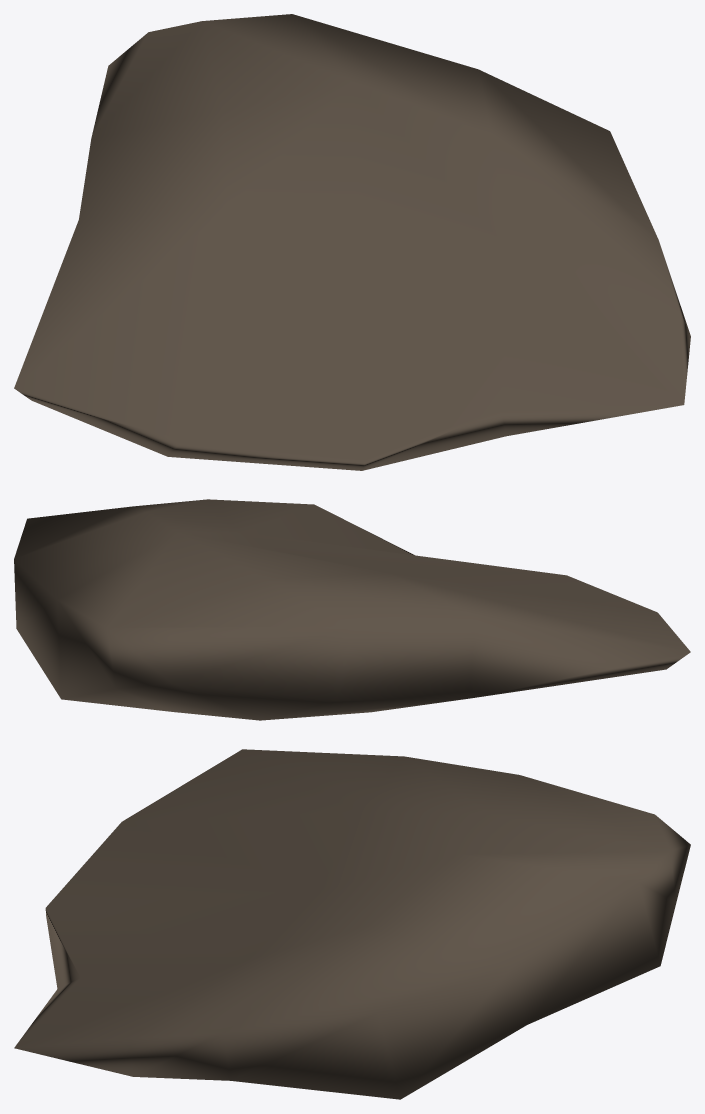
The model's file is ruins4_part (15).fbx.
The picture shows the model from 3 angles, top to bottom: view 1: azimuth 30°, elevation 25°; view 2: azimuth 150°, elevation 25°; view 3: azimuth 270°, elevation 25°; orthographic projection. The views are drawn at different scales.
Visible parts, largest first — view 1: ruins4_part (15); view 2: ruins4_part (15); view 3: ruins4_part (15).
Part boxes in pixels (x1,y1,x2,y2): ruins4_part (15): [14, 14, 690, 470]; ruins4_part (15): [14, 499, 690, 720]; ruins4_part (15): [14, 749, 690, 1099].
Bounding box in the file's own units: 25.49 × 7.21 × 24.28.
